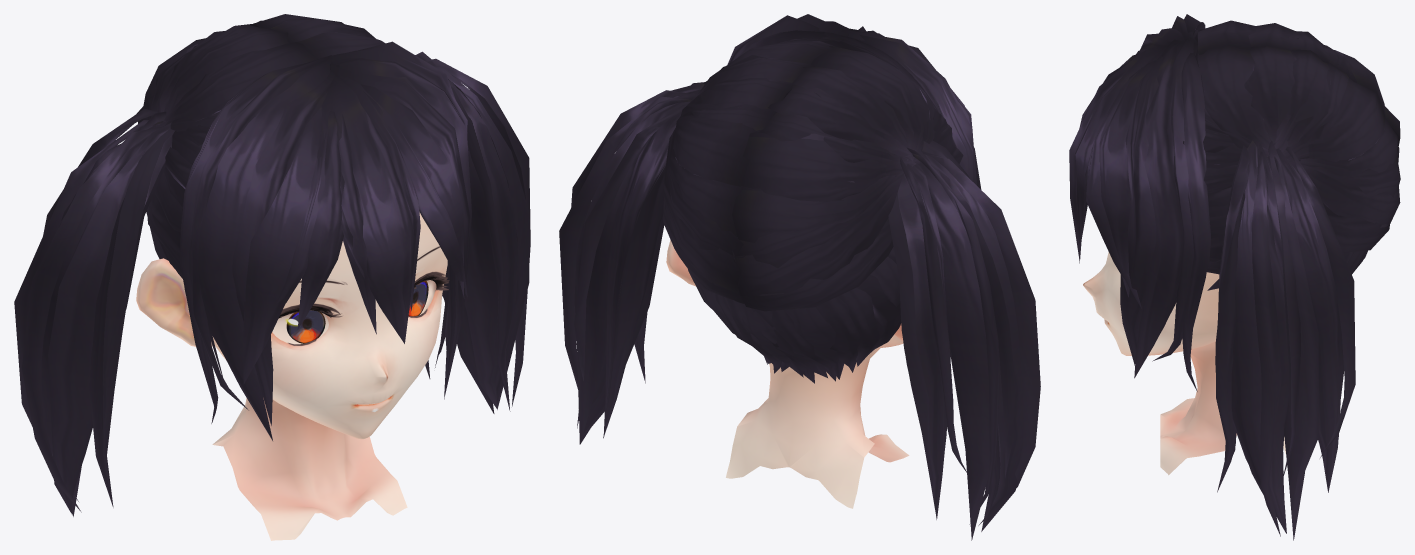
Rendered from head.glb.
3 renders of one model, left to right at view 1: azimuth 30°, elevation 25°; view 2: azimuth 150°, elevation 25°; view 3: azimuth 270°, elevation 25°, orthographic. The views are drawn at different scales.
Parts seen in each view (by area): view 1: Head_c; view 2: Head_c; view 3: Head_c.
Part boxes in pixels (box(x1,y1,x2,y2)): Head_c: box(14, 14, 530, 540); Head_c: box(559, 14, 1040, 540); Head_c: box(1069, 14, 1400, 540).
Size of the model in its own units: 0.3876 by 0.3361 by 0.2466.
Materials: 11 (11 with a texture image).
